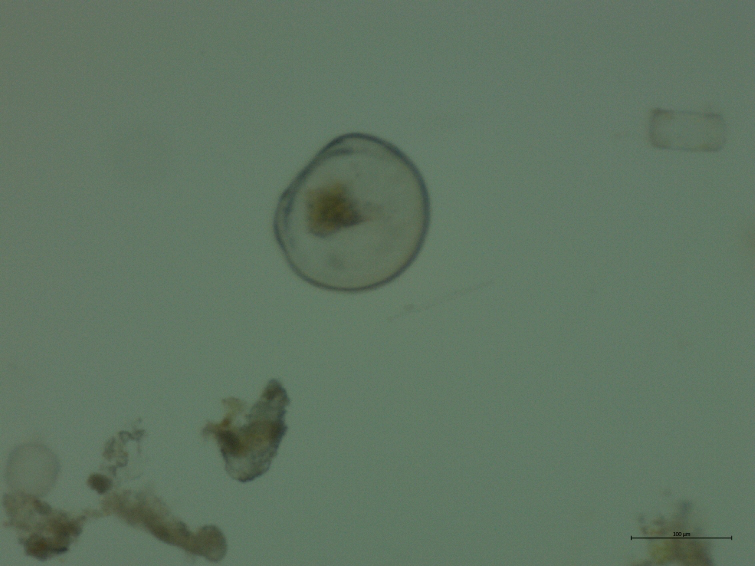oyster: (268, 126, 435, 300)
